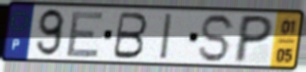9: (34, 7, 68, 59)
B: (110, 10, 150, 61)
E: (64, 10, 107, 59)
I: (158, 12, 175, 62)
P: (231, 13, 276, 65)
S: (197, 12, 238, 64)
